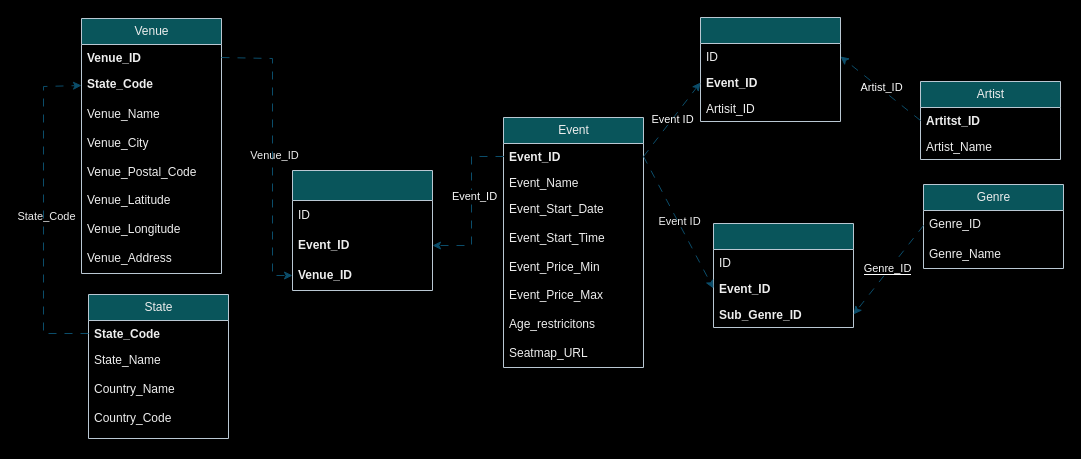
The diagram is 1081 pixels wide and 459 high, and some of its shapes have lost their labels. The box of each missing label's shape, as (x1, y1, x2, y2) in pixels:
Event Genre Bridge: (712, 222, 854, 328)
Event_Artitst_Bridge: (700, 16, 840, 122)
Event_Venue_Bridge: (292, 170, 432, 290)
